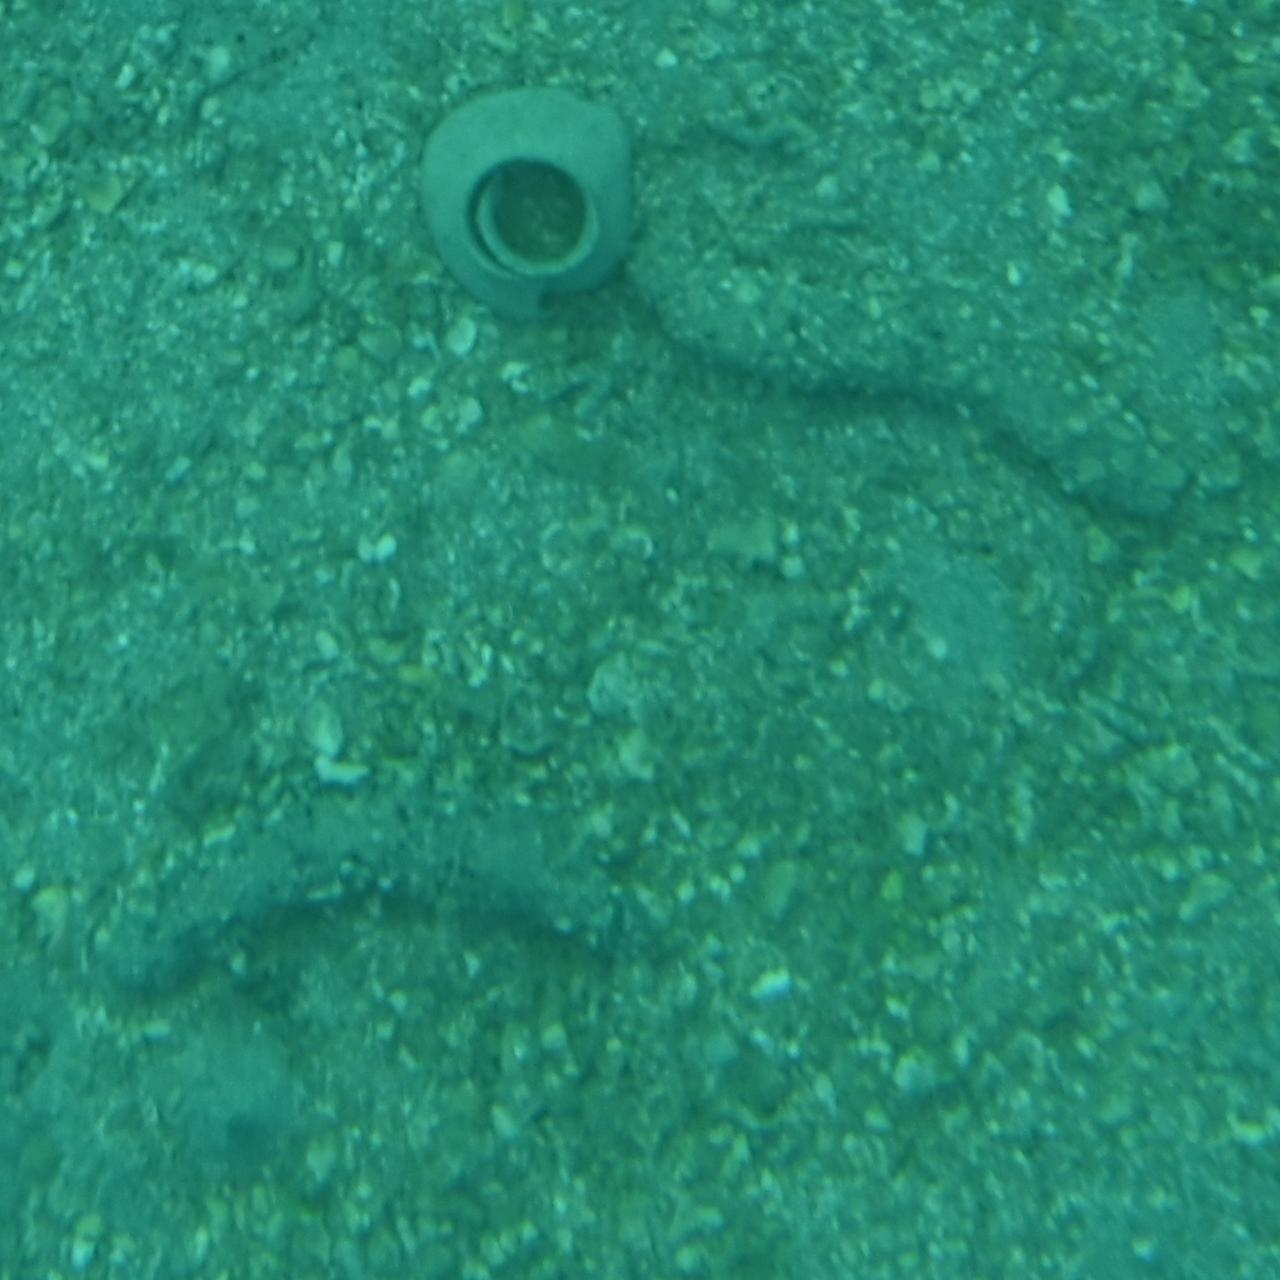Holothuria tubulosa: (602, 230, 1212, 524), (75, 794, 670, 1013)
